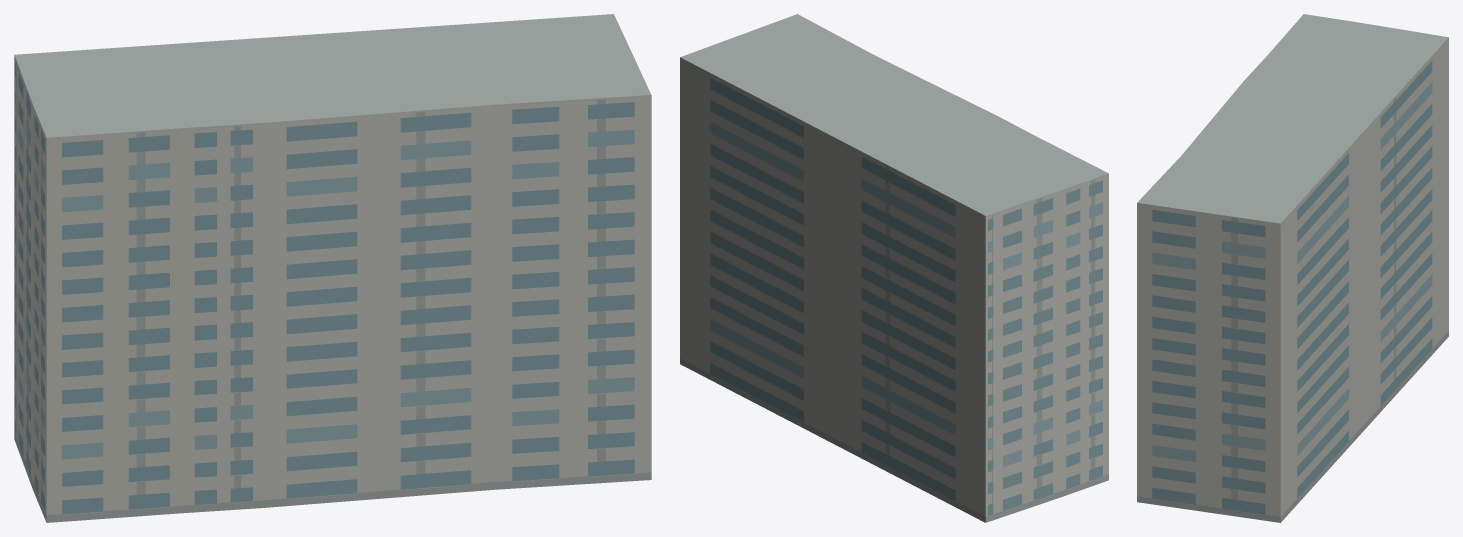
Rendered from survey-upis-33028221.glb.
3 views of the same model, side by side, from view 1: azimuth 30°, elevation 25°; view 2: azimuth 150°, elevation 25°; view 3: azimuth 270°, elevation 25° (orthographic). The views are drawn at different scales.
Visible parts, largest first — view 1: survey-upis-33028221.tmp; view 2: survey-upis-33028221.tmp; view 3: survey-upis-33028221.tmp.
Boxes of the visible parts, x1,y1,x2,y2 form: survey-upis-33028221.tmp: (14, 14, 651, 522); survey-upis-33028221.tmp: (680, 14, 1108, 522); survey-upis-33028221.tmp: (1137, 14, 1448, 522).
Size of the model in its own units: 85.63 by 57.02 by 53.84.
